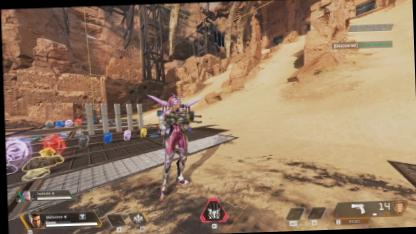Target: (156, 92, 192, 201)
